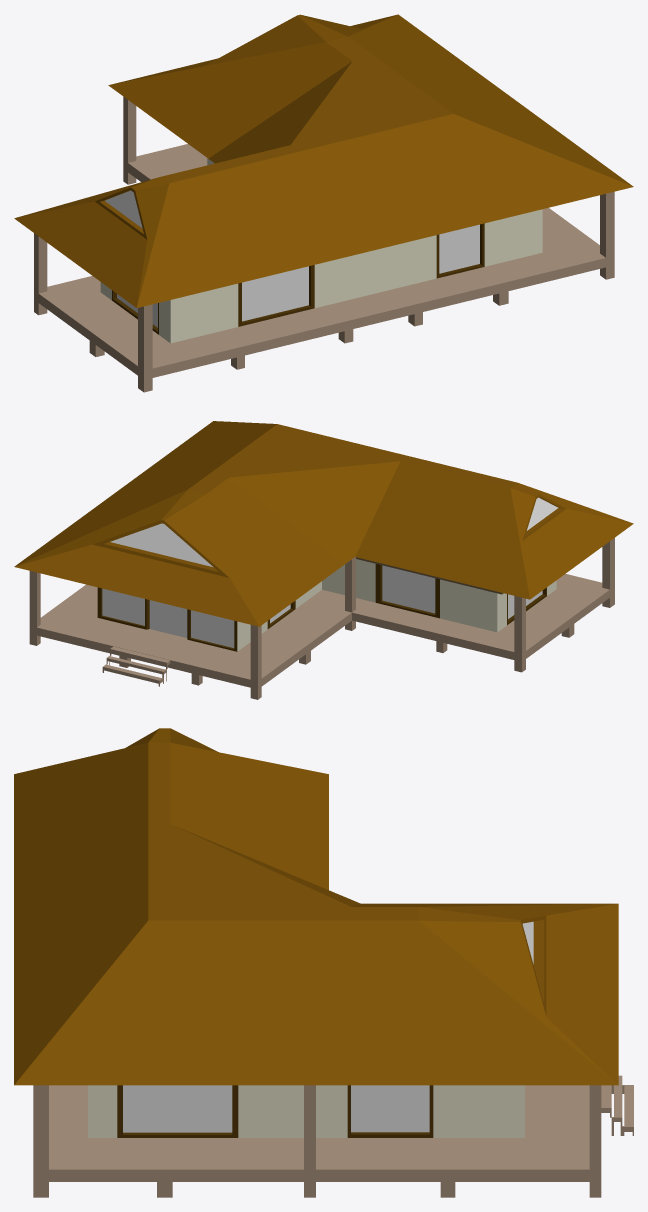
File: House 3D.fbx
3 views of the same model, one above another, from view 1: azimuth 30°, elevation 25°; view 2: azimuth 150°, elevation 25°; view 3: azimuth 270°, elevation 25° (orthographic). The views are drawn at different scales.
Parts seen in each view (by area): view 1: pCube1, pCube2; view 2: pCube1, pCube2, pCube3; view 3: pCube1, pCube2, pCube3.
Boxes of the visible parts, <box> form: pCube1: <box>14,14,633,343</box>; pCube2: <box>34,96,614,392</box>; pCube1: <box>14,421,633,651</box>; pCube2: <box>29,538,614,699</box>; pCube3: <box>102,646,170,686</box>; pCube1: <box>14,728,618,1137</box>; pCube2: <box>33,1085,601,1197</box>; pCube3: <box>601,1075,633,1135</box>.
Bounding box in the file's own units: 53.78 × 16.5 × 45.28.
